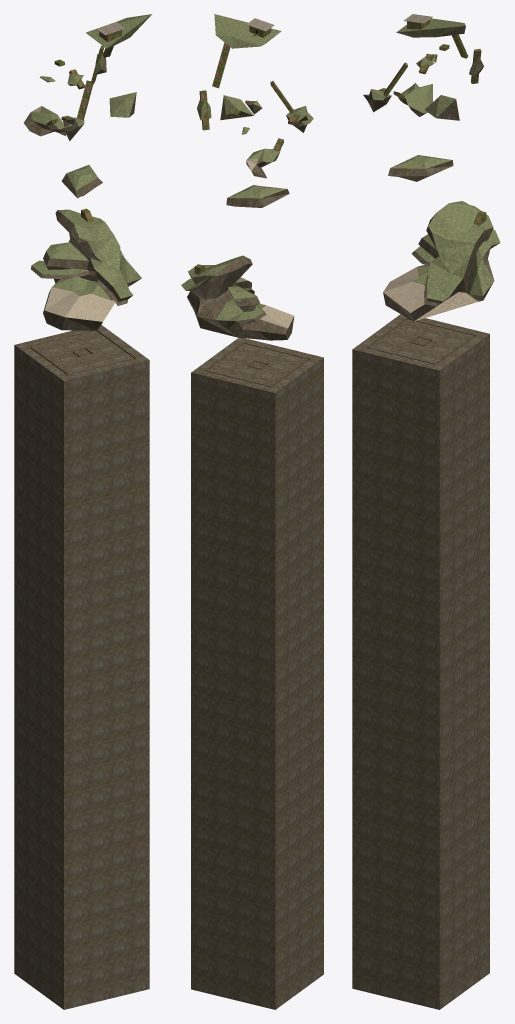
File: Room1.gltf
3 renders of one model, left to right at view 1: azimuth 30°, elevation 25°; view 2: azimuth 150°, elevation 25°; view 3: azimuth 330°, elevation 25°, orthographic. The views are drawn at different scales.
Parts seen in each view (by area): view 1: Cube; view 2: Cube; view 3: Cube.
Part boxes in pixels (bbox=[...]): Cube: bbox=[14, 14, 151, 1009]; Cube: bbox=[181, 14, 323, 1009]; Cube: bbox=[352, 14, 500, 1009].
Bounding box in the file's own units: 36.15 × 322 × 36.82.
7 materials, 7 textured.
